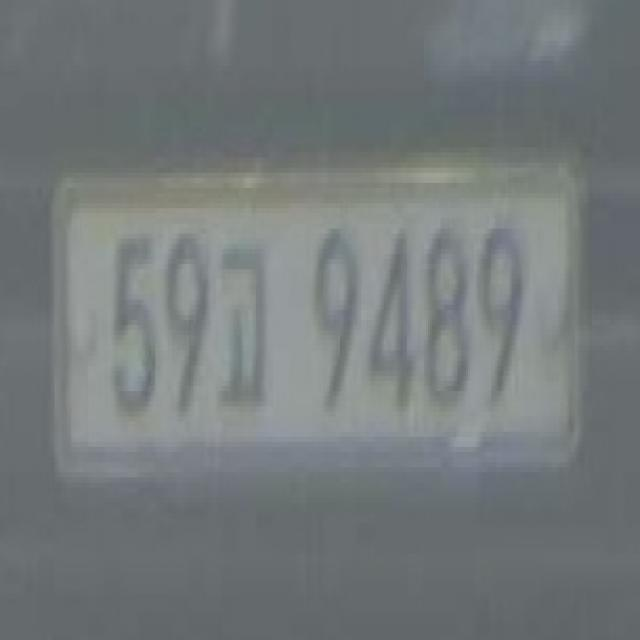4: (362, 210, 420, 423)
5: (111, 218, 159, 428)
8: (424, 206, 474, 424)
9: (476, 214, 530, 420), (307, 214, 359, 424), (162, 216, 212, 434)
go: (217, 227, 273, 436)
license_plate: (48, 153, 592, 481)
